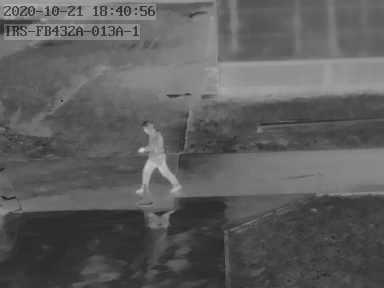person: (132, 119, 184, 197)
